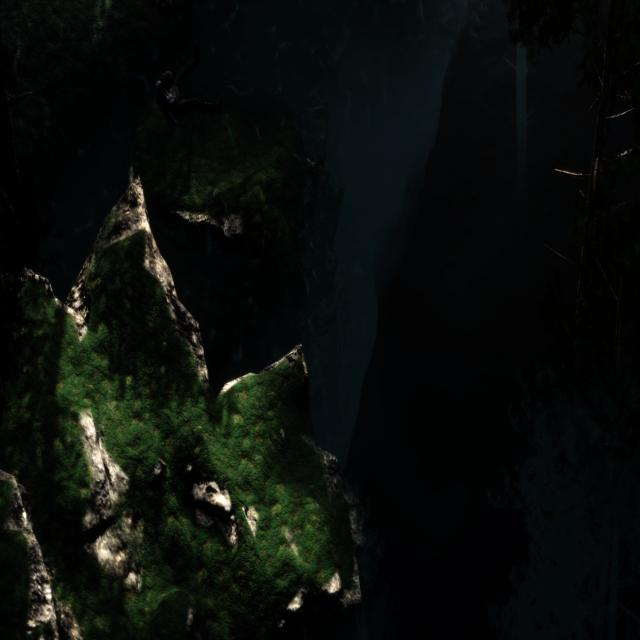Human: (153, 42, 226, 132)
